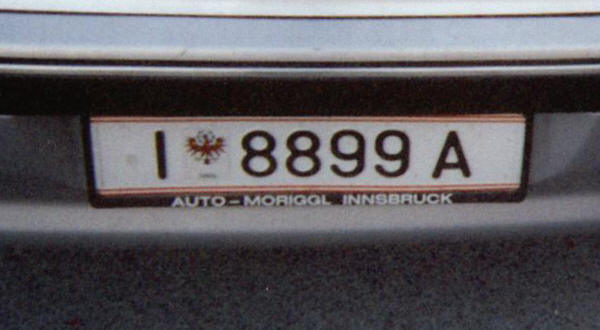license_plate: (85, 110, 529, 192)
